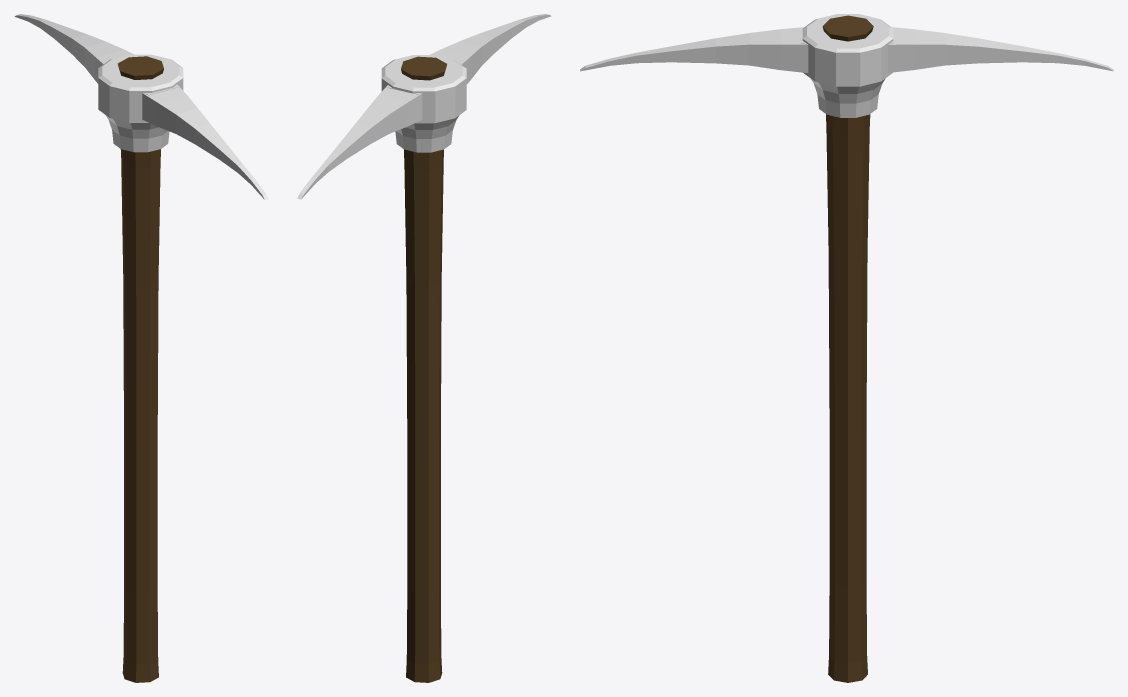
File: cylinder-long.glb
The picture shows the model from 3 angles, left to right: view 1: azimuth 30°, elevation 25°; view 2: azimuth 150°, elevation 25°; view 3: azimuth 270°, elevation 25°; orthographic projection. The views are drawn at different scales.
Parts seen in each view (by area): view 1: Cylinder.001; view 2: Cylinder.001; view 3: Cylinder.001.
Part boxes in pixels (bbox=[...]): Cylinder.001: bbox=[14, 14, 268, 682]; Cylinder.001: bbox=[297, 14, 551, 682]; Cylinder.001: bbox=[580, 14, 1113, 682].
Size of the model in its own units: 2.03 by 16 by 11.94.
